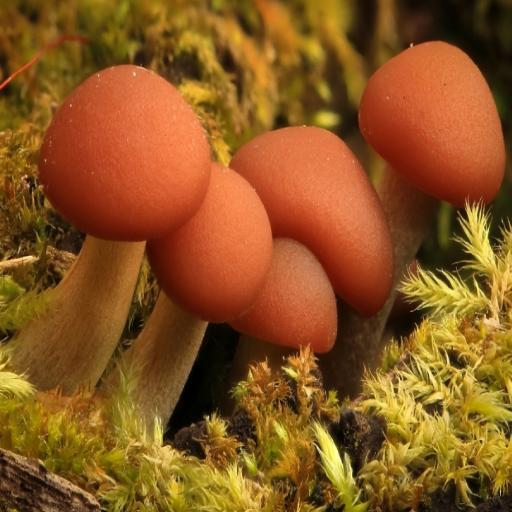mushroom: (43, 32, 507, 390)
